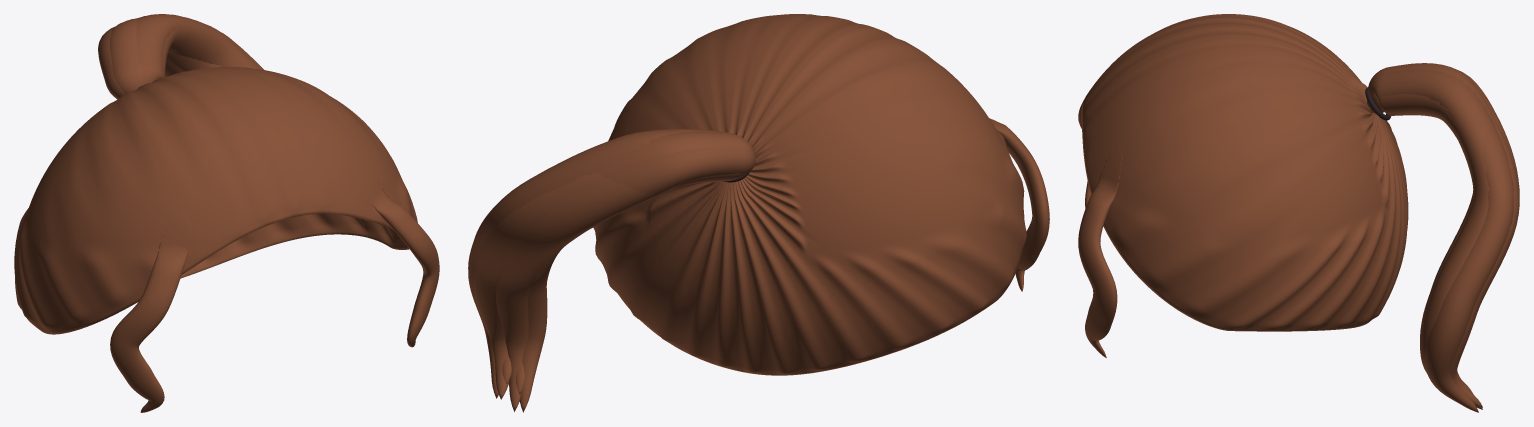
The model's file is Feminine-ponytail-cap-hair.glb.
3 renders of one model, left to right at view 1: azimuth 30°, elevation 25°; view 2: azimuth 150°, elevation 25°; view 3: azimuth 270°, elevation 25°, orthographic. The views are drawn at different scales.
Visible parts, largest first — view 1: Hair / Continuous swept pony roots212, Hair / Pony curved front212 -1, Hair / fluid ponytail213 1, Hair / Pony curved front212 1, Hair / fluid ponytail213 2, Hair / fluid ponytail213 3, Hair / fluid ponytail213 0; view 2: Hair / Continuous swept pony roots212, Hair / fluid ponytail213 4, Hair / fluid ponytail213 3, Hair / fluid ponytail213 5, Hair / fluid ponytail213 0, Hair / Pony curved front212 -1, Hair / fluid ponytail213 2, Hair / fluid ponytail213 1; view 3: Hair / Continuous swept pony roots212, Hair / fluid ponytail213 0, Hair / fluid ponytail213 1, Hair / Pony curved front212 1, Hair / fluid ponytail213 5, Hair / fluid ponytail213 2.
Part boxes in pixels (box(x1,y1,x2,y2)): Hair / Continuous swept pony roots212: box(14, 67, 417, 334); Hair / Pony curved front212 -1: box(110, 212, 191, 412); Hair / fluid ponytail213 1: box(136, 14, 260, 84); Hair / Pony curved front212 1: box(359, 168, 439, 347); Hair / fluid ponytail213 2: box(109, 17, 221, 93); Hair / fluid ponytail213 3: box(98, 26, 185, 99); Hair / fluid ponytail213 0: box(162, 20, 263, 76); Hair / Continuous swept pony roots212: box(593, 14, 1026, 375); Hair / fluid ponytail213 4: box(496, 173, 747, 411); Hair / fluid ponytail213 3: box(519, 147, 755, 412); Hair / fluid ponytail213 5: box(473, 172, 603, 399); Hair / fluid ponytail213 0: box(468, 161, 597, 398); Hair / Pony curved front212 -1: box(989, 118, 1049, 291); Hair / fluid ponytail213 2: box(515, 131, 753, 393); Hair / fluid ponytail213 1: box(502, 129, 728, 383); Hair / Continuous swept pony roots212: box(1081, 14, 1408, 331); Hair / fluid ponytail213 0: box(1370, 94, 1514, 412); Hair / fluid ponytail213 1: box(1367, 69, 1491, 393); Hair / Pony curved front212 1: box(1078, 148, 1122, 357); Hair / fluid ponytail213 5: box(1376, 110, 1519, 407); Hair / fluid ponytail213 2: box(1366, 63, 1493, 393).
Size of the model in its own units: 1.05 by 0.7735 by 1.02.
